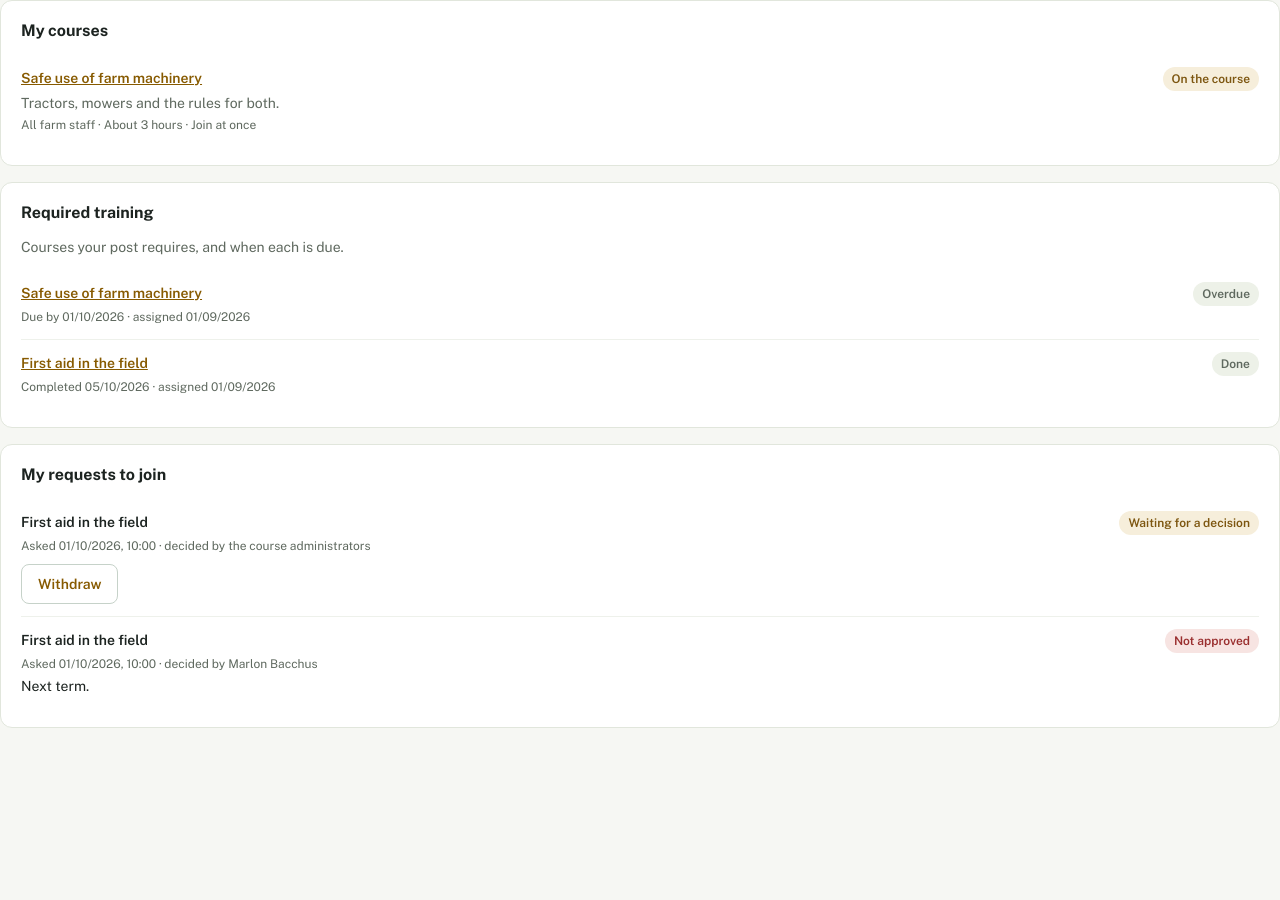
Scenario: My learning (items 5.02 to 5.05) › lists my courses, my required training with its due date, and my requests, which I may withdraw
Expected: the list named "My courses" shows "On the course", 1172,72 -> 1250,86
Expected: the 3rd list item shows "Completed 05/10/2026", 21,380 -> 150,394
Click the link "Safe use of farm machinery" in the row of "Overdue": (112, 294) 21,283 -> 202,304
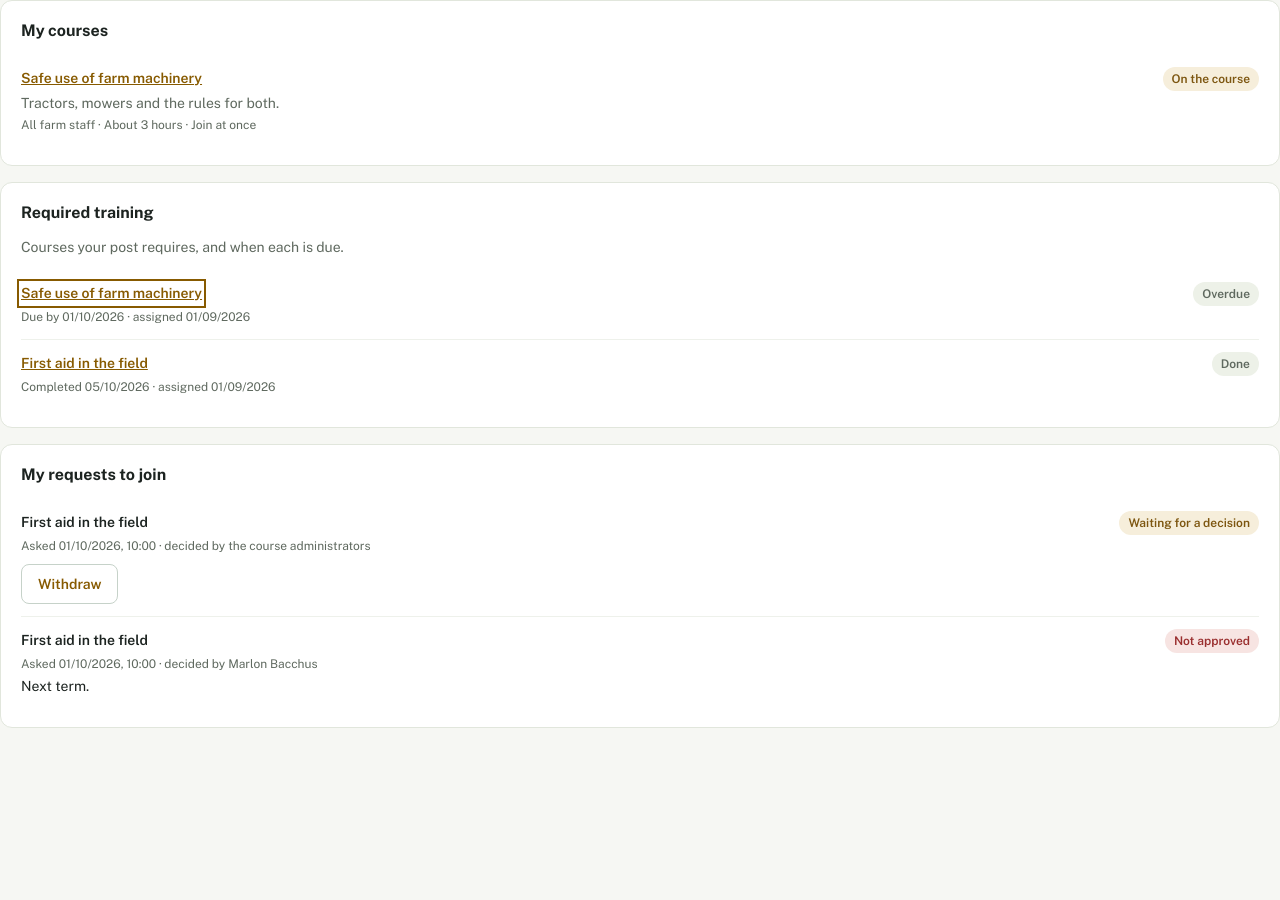
Expected: the list named "My requests to join" shows "decided by the course administrators", 156,539 -> 370,553
Expected: the list named "My requests to join" shows "Next term.", 21,678 -> 89,694
Click the button with aria-label "Withdraw the request to join First aid in the field": (70, 584) 21,564 -> 118,604
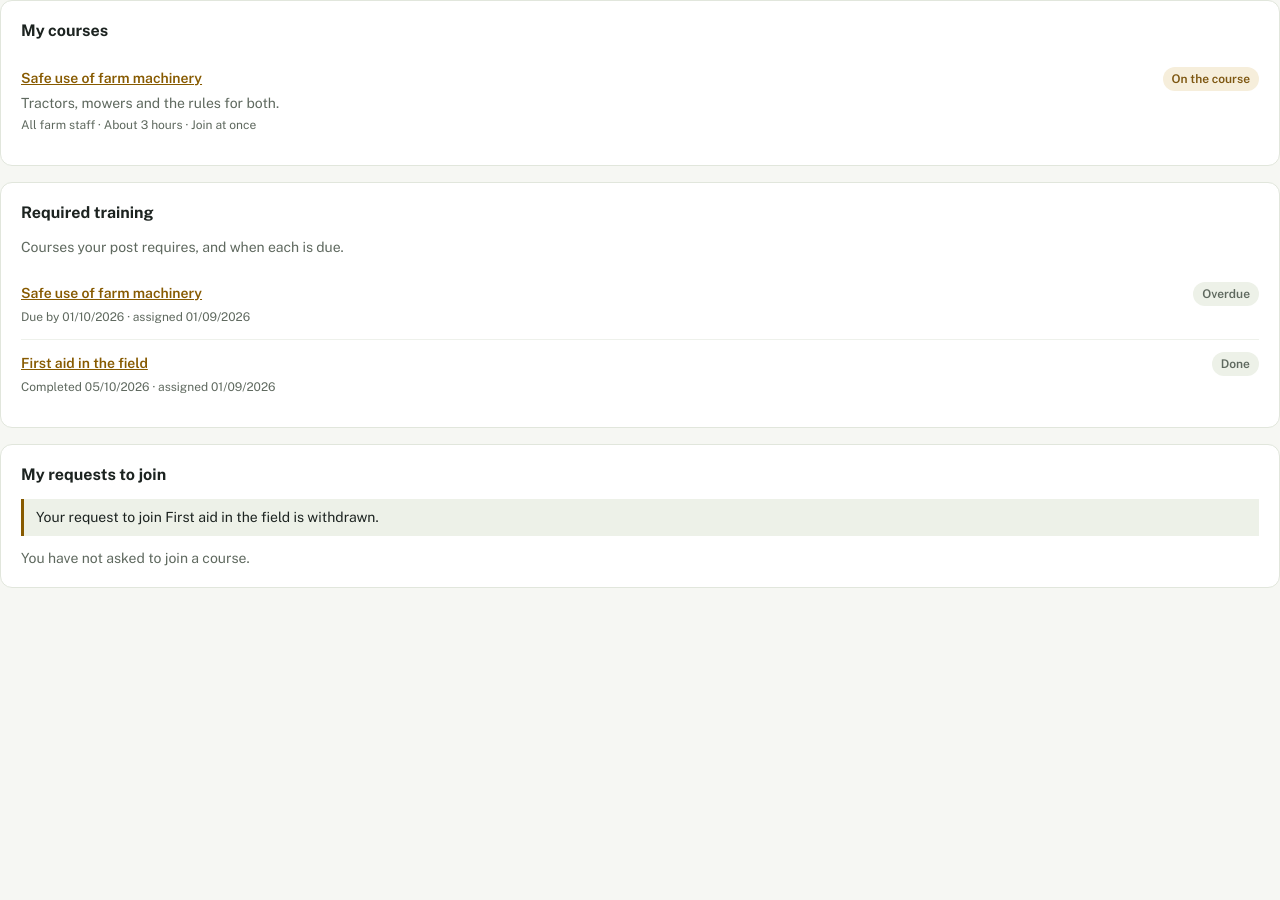
Result: the message reads "Your request to join First aid in the field is withdrawn." at 36,509 -> 379,525
Result: the text "You have not asked to join a course." is shown at 21,550 -> 250,566
